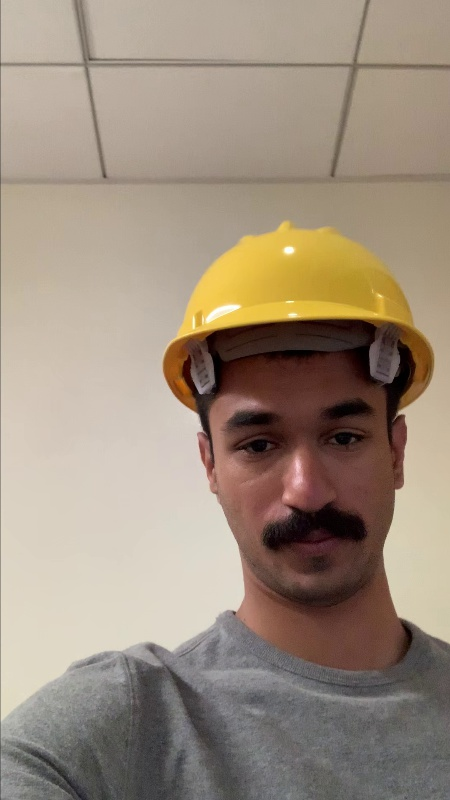helmet: (156, 214, 441, 381)
